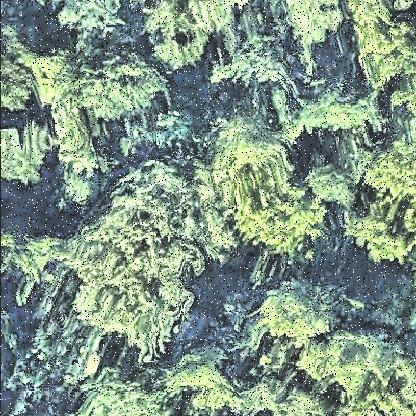tree-top: (65, 160, 211, 348), (224, 133, 323, 245), (303, 326, 416, 414), (64, 42, 176, 126), (348, 1, 414, 90), (296, 85, 388, 147), (144, 1, 221, 74), (76, 361, 168, 416), (172, 344, 242, 416), (257, 281, 338, 342), (1, 23, 48, 117), (345, 214, 415, 274), (50, 1, 142, 39), (2, 119, 50, 189), (278, 2, 350, 46), (305, 166, 363, 211)
